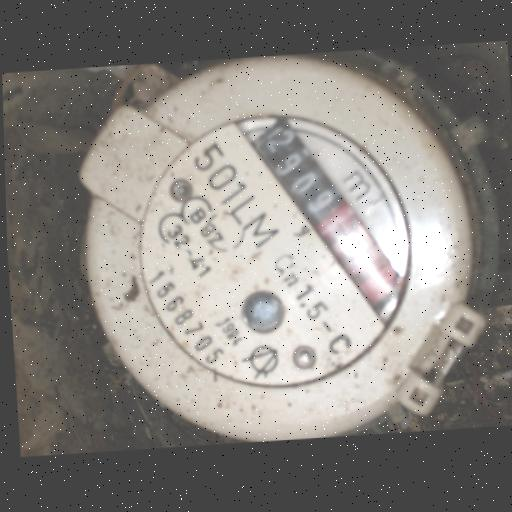0: (276, 158, 330, 205)
1: (311, 200, 364, 249)
2: (250, 119, 302, 166)
9: (293, 177, 347, 228), (264, 138, 316, 185)
border_water_meter_number: (245, 108, 414, 322)
